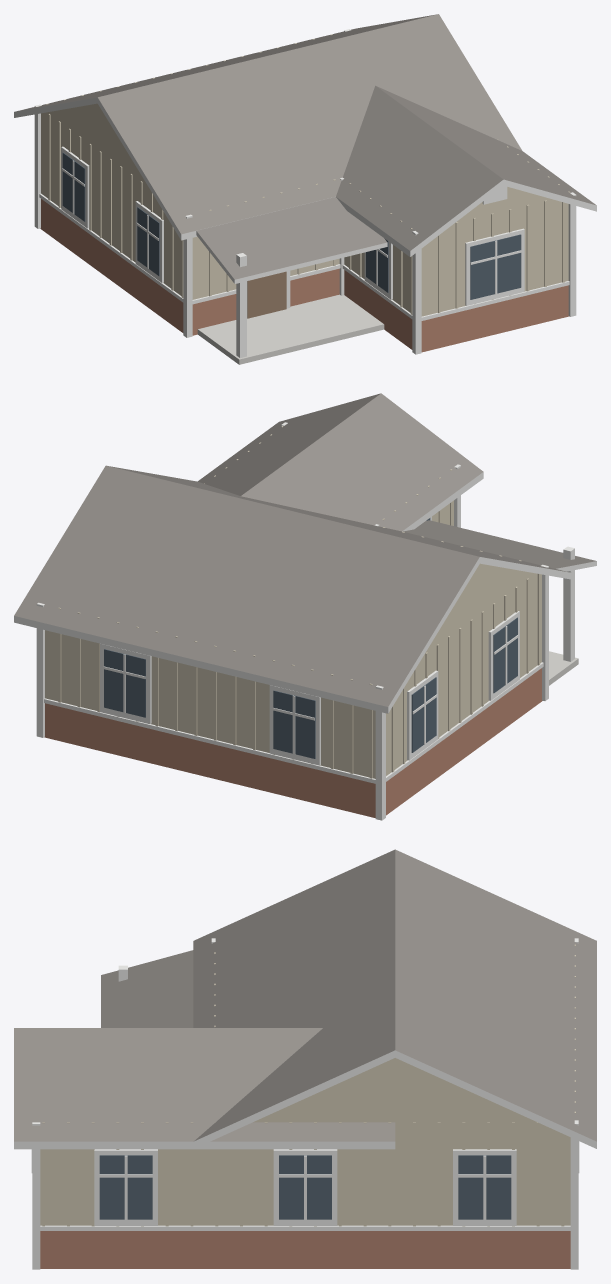
File: lodi-craftsman.glb
3 views of the same model, one above another, from view 1: azimuth 30°, elevation 25°; view 2: azimuth 150°, elevation 25°; view 3: azimuth 270°, elevation 25° (orthographic). The views are drawn at different scales.
Parts seen in each view (by area): view 1: The Lodi (craftsman); view 2: The Lodi (craftsman); view 3: The Lodi (craftsman).
Boxes of the visible parts, bbox=[...] form: The Lodi (craftsman): bbox=[14, 14, 596, 364]; The Lodi (craftsman): bbox=[14, 393, 596, 820]; The Lodi (craftsman): bbox=[14, 849, 596, 1269].
Bounding box in the file's own units: 8.08 × 4.27 × 9.9.
